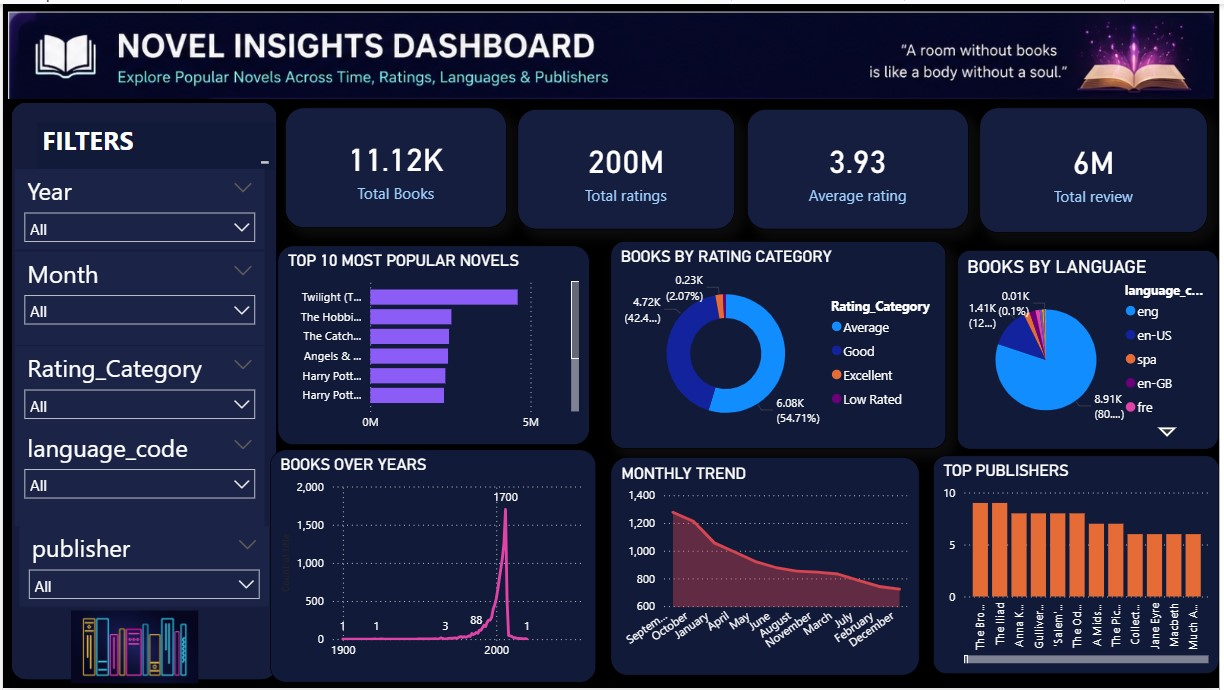

The dashboard page shown, as its layout file describes it:
{"tool":"powerbi","page":{"name":"Novel","canvas":[1280,720],"ordinal":0},"visuals":[{"type":"image","box":[0,0,1279.7,108.5],"z":0},{"type":"shape","box":[0,95.3,297,625.2],"z":1000},{"type":"textbox","title":"FILTERS","box":[35.9,125,248.5,48.5],"z":2000},{"type":"slicer","fields":{"Values":["books.Year"]},"box":[12.5,173.5,262.6,84.4],"z":3000},{"type":"slicer","fields":{"Values":["books.Month"]},"box":[12.5,261,262.6,98.5],"z":4000},{"type":"slicer","fields":{"Values":["books.Rating_Category"]},"box":[12.5,359.5,262.6,84.4],"z":5000},{"type":"slicer","fields":{"Values":["books.language_code"]},"box":[12.5,443.9,262.6,106.3],"z":6000},{"type":"slicer","fields":{"Values":["books.publisher"]},"box":[17.2,550.2,262.6,84.4],"z":7000},{"type":"image","box":[2.1,632.8,274.5,87.2],"z":8000},{"type":"card","fields":{"Values":["CountNonNull(books.title)"]},"box":[296.7,108.3,233.3,126.7],"z":9000},{"type":"card","fields":{"Values":["Sum(books.ratings_count)"]},"box":[541.7,110,228.3,126.7],"z":10000},{"type":"card","fields":{"Values":["Sum(books.text_reviews_count)"]},"box":[1028.3,108.3,240,131.7],"z":11000},{"type":"card","fields":{"Values":["Avg(books.average_rating)"]},"box":[783.3,110,233.3,126.7],"z":12000},{"type":"clusteredBarChart","title":"TOP 10 MOST POPULAR NOVELS","fields":{"Category":["books.title"],"Y":["Sum(books.ratings_count)"]},"box":[289,254.2,328.4,210],"z":13000},{"type":"donutChart","title":"BOOKS BY RATING CATEGORY","fields":{"Category":["books.Rating_Category"],"Y":["CountNonNull(books.title)"]},"box":[640,250,353.3,218.3],"z":14000},{"type":"pieChart","title":"BOOKS BY LANGUAGE","fields":{"Category":["books.language_code"],"Y":["CountNonNull(books.title)"]},"box":[1005,258.3,275,210],"z":15000},{"type":"lineChart","title":"BOOKS OVER YEARS","fields":{"Category":["books.Year"],"Y":["CountNonNull(books.title)"]},"box":[281.7,468.3,343.3,245],"z":16000},{"type":"areaChart","title":"MONTHLY TREND","fields":{"Category":["books.Month"],"Y":["CountNonNull(books.title)"]},"box":[640,476.7,325,230],"z":17000},{"type":"columnChart","title":"TOP PUBLISHERS","fields":{"Y":["CountNonNull(books.publisher)"],"Category":["books.title"]},"box":[978.4,475.1,301.7,229.8],"z":18000}]}

Visuals, with their boxes in screenshot pixels (x1, y1, x2, y2), scaled from the page's 1280x720 canvas onto the 1224x690 screenshot:
image: bbox(0, 0, 1223, 104)
shape: bbox(0, 91, 284, 689)
"FILTERS" textbox: bbox(34, 120, 272, 166)
slicer - books.Year: bbox(12, 166, 263, 247)
slicer - books.Month: bbox(12, 250, 263, 345)
slicer - books.Rating_Category: bbox(12, 345, 263, 425)
slicer - books.language_code: bbox(12, 425, 263, 527)
slicer - books.publisher: bbox(16, 527, 268, 608)
image: bbox(2, 606, 264, 689)
card - CountNonNull(books.title): bbox(284, 104, 507, 225)
card - Sum(books.ratings_count): bbox(518, 105, 736, 227)
card - Sum(books.text_reviews_count): bbox(983, 104, 1213, 230)
card - Avg(books.average_rating): bbox(749, 105, 972, 227)
"TOP 10 MOST POPULAR NOVELS" clusteredBarChart: bbox(276, 244, 590, 445)
"BOOKS BY RATING CATEGORY" donutChart: bbox(612, 240, 950, 449)
"BOOKS BY LANGUAGE" pieChart: bbox(961, 248, 1223, 449)
"BOOKS OVER YEARS" lineChart: bbox(269, 449, 598, 684)
"MONTHLY TREND" areaChart: bbox(612, 457, 923, 677)
"TOP PUBLISHERS" columnChart: bbox(936, 455, 1223, 676)
